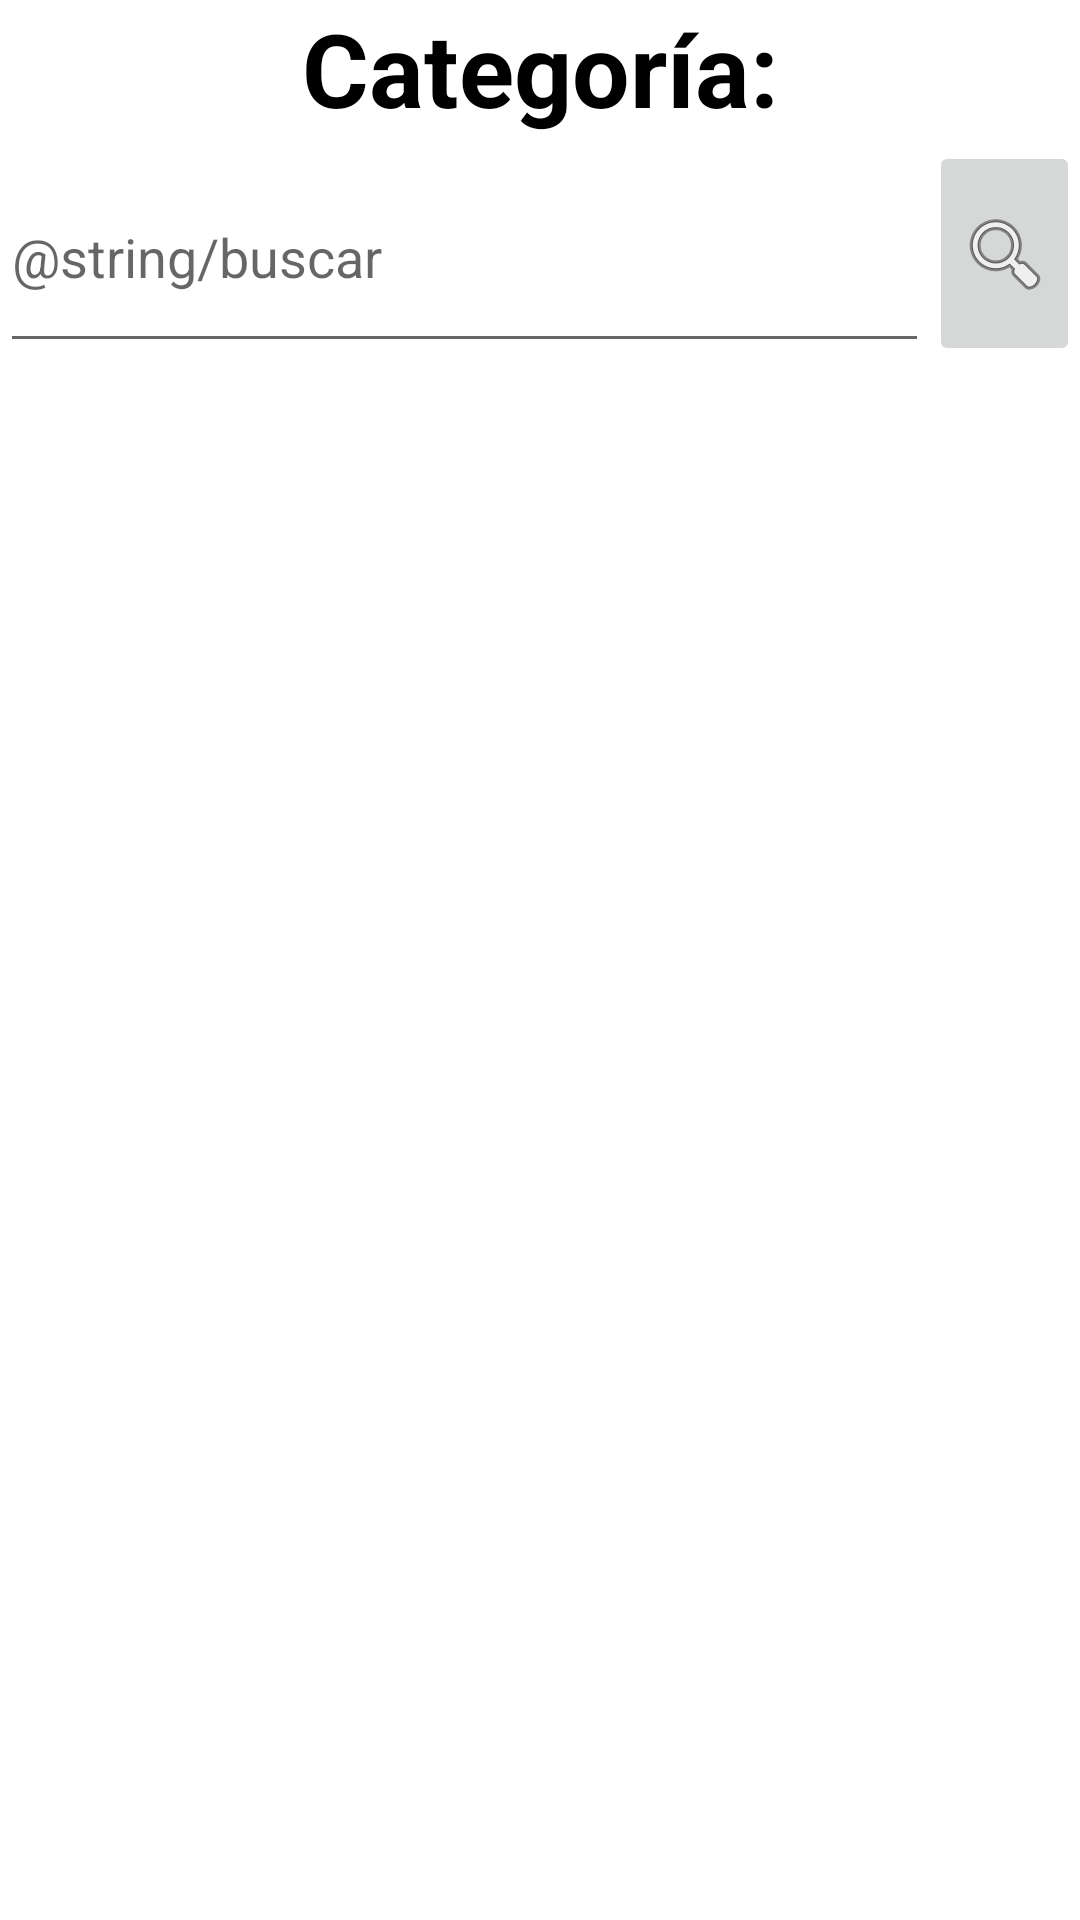

Locate icon controls on the screen. Image size 1080w x 1920h, boxes as rect(x1, y1, x2, y2).
search: rect(941, 159, 1068, 348)
